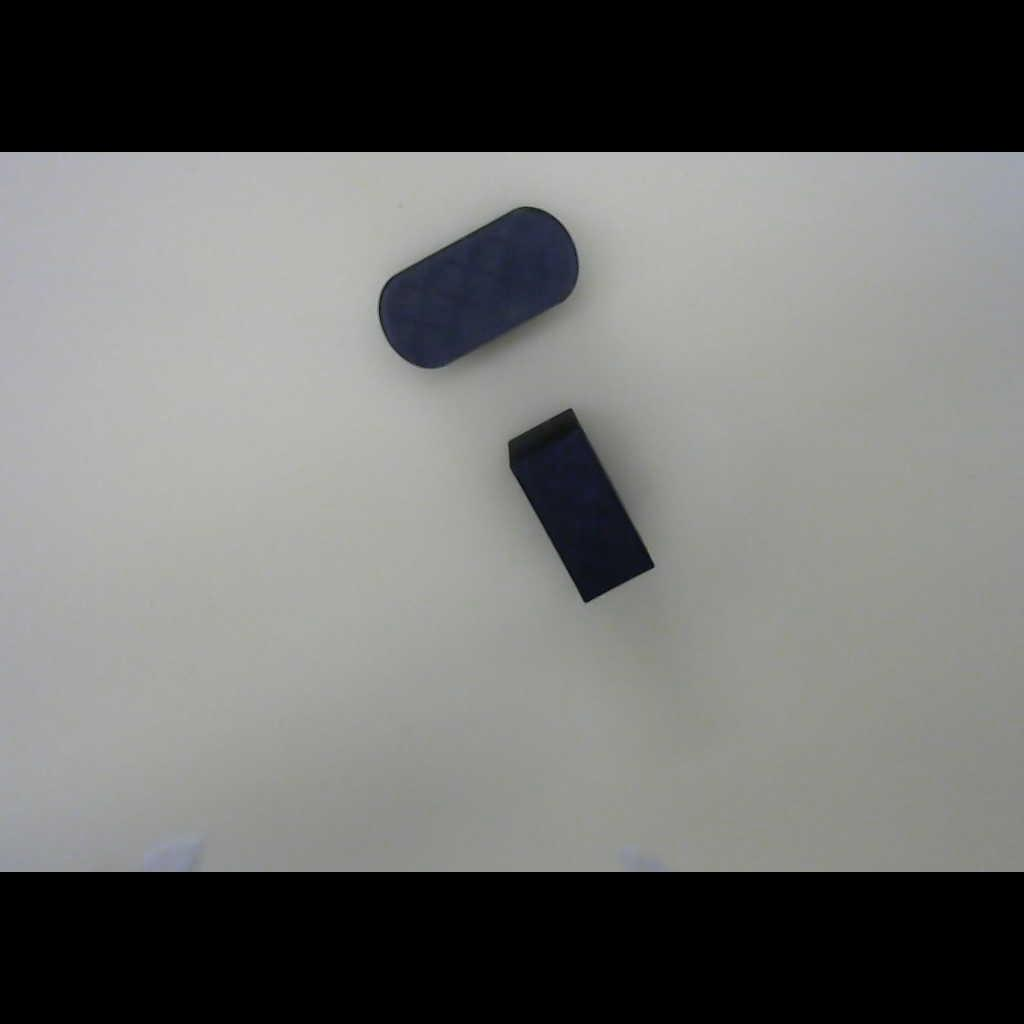oval: (356, 183, 599, 389)
rectangle: (490, 400, 658, 610)
